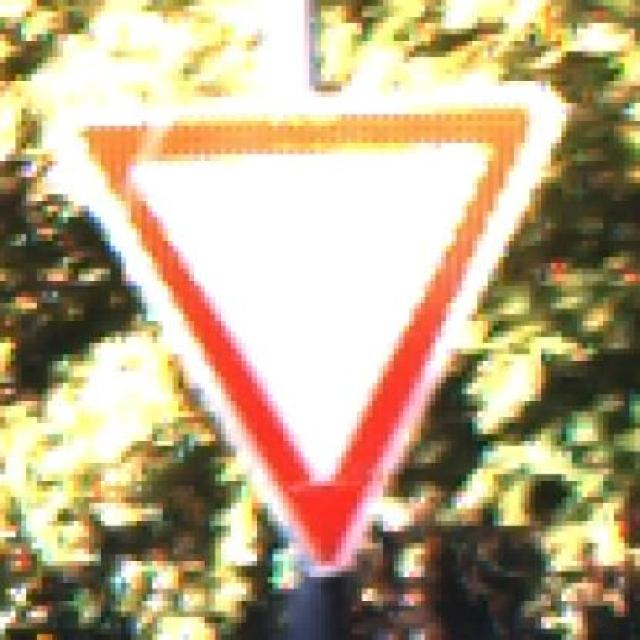Give Way: (33, 58, 595, 584)
